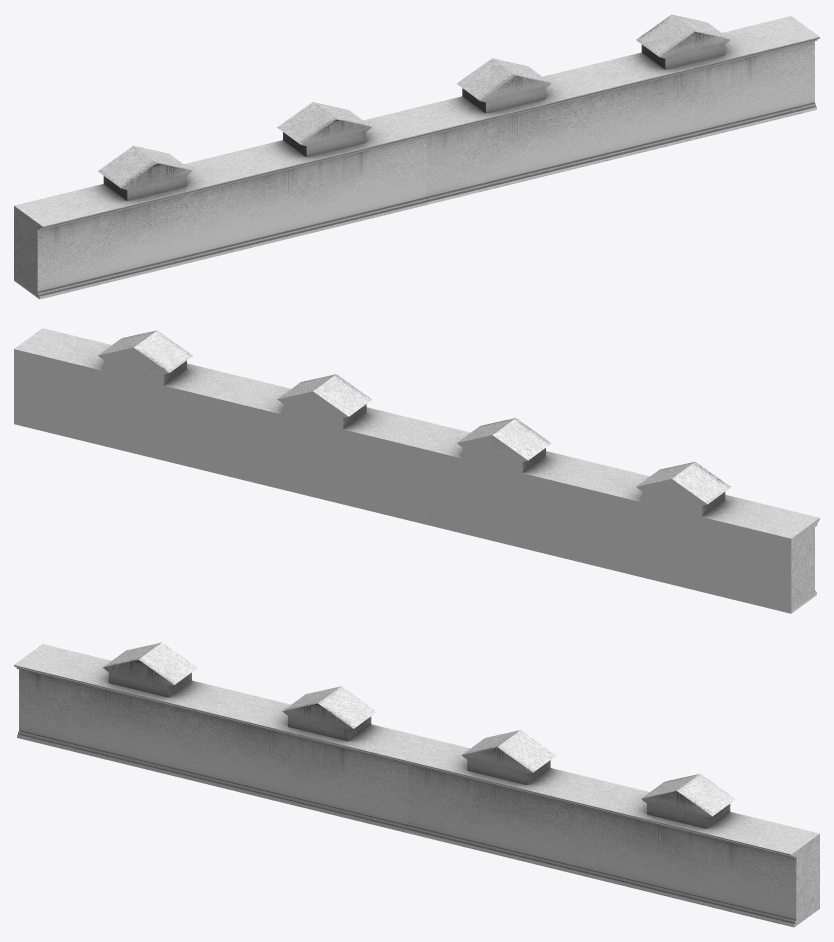
File: roof_3.glb
3 views of the same model, one above another, from view 1: azimuth 30°, elevation 25°; view 2: azimuth 150°, elevation 25°; view 3: azimuth 330°, elevation 25° (orthographic).
Parts seen in each view (by area): view 1: roof_3; view 2: roof_3; view 3: roof_3.
Boxes of the visible parts, x1,y1,x2,y2 form: roof_3: [14, 14, 819, 299]; roof_3: [14, 328, 819, 613]; roof_3: [14, 642, 819, 927].
Bounding box in the file's own units: 6.5 × 0.8453 × 0.4147.
Materials: 1 (1 with a texture image).
